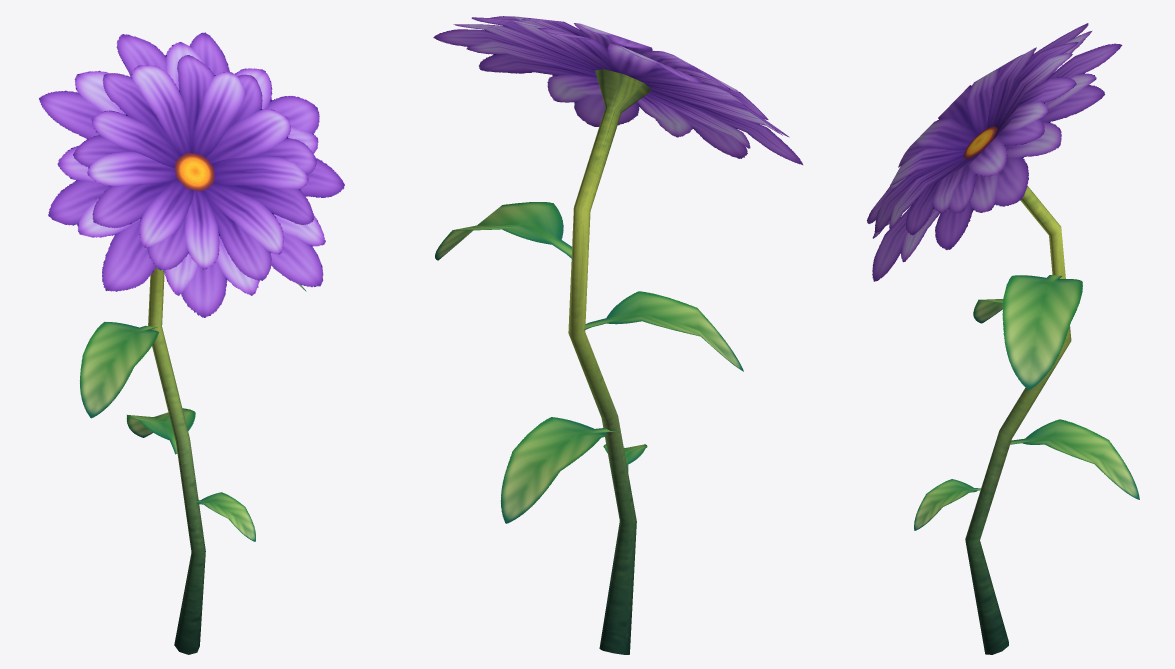
File: ENV1110004.FBX
3 views of the same model, side by side, from view 1: azimuth 30°, elevation 25°; view 2: azimuth 150°, elevation 25°; view 3: azimuth 270°, elevation 25° (orthographic). The views are drawn at different scales.
Visible parts, largest first — view 1: smENV1110004; view 2: smENV1110004; view 3: smENV1110004.
Part boxes in pixels (box(x1,y1,x2,y2)): smENV1110004: box(39, 32, 344, 654); smENV1110004: box(433, 16, 802, 654); smENV1110004: box(867, 23, 1139, 654).
Size of the model in its own units: 9.02 by 16.48 by 7.55.
Materials: 1 (1 with a texture image).
